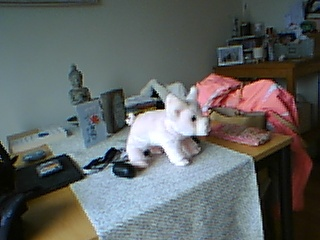piggy: (124, 85, 211, 170)
